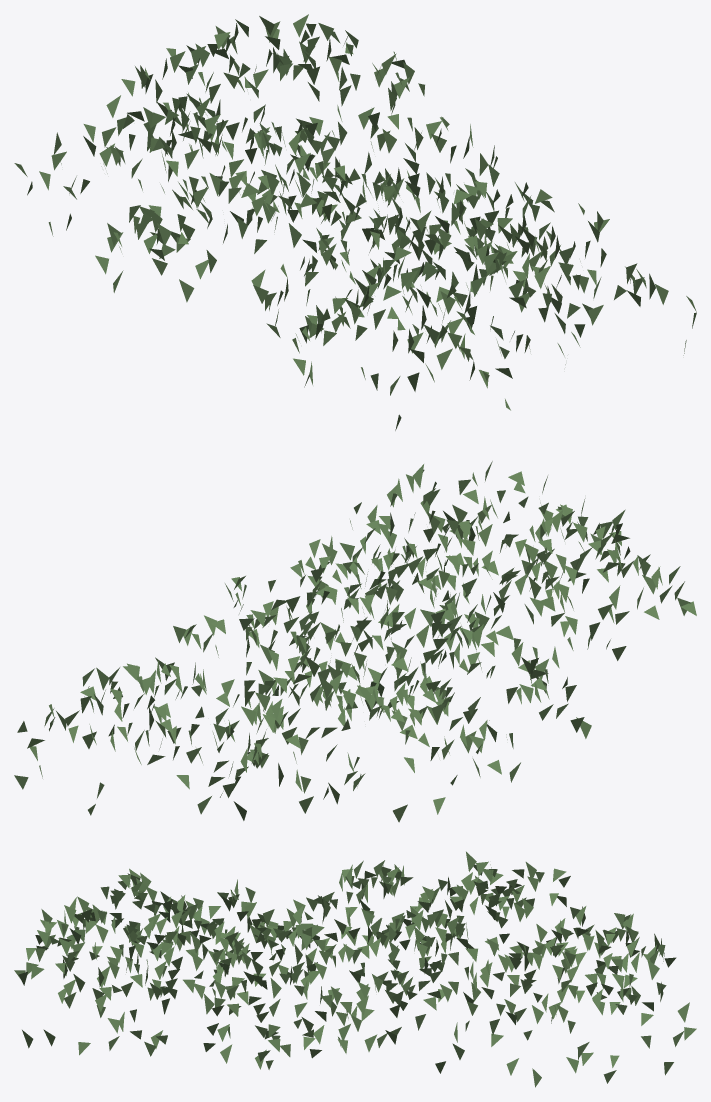
Rendered from xiyuan-vegetation-30-medium.glb.
3 views of the same model, one above another, from view 1: azimuth 30°, elevation 25°; view 2: azimuth 150°, elevation 25°; view 3: azimuth 270°, elevation 25° (orthographic). The views are drawn at different scales.
Visible parts, largest first — view 1: shrubs; view 2: shrubs; view 3: shrubs.
Boxes of the visible parts, x1,y1,x2,y2 form: shrubs: [14, 14, 696, 430]; shrubs: [14, 461, 696, 822]; shrubs: [14, 851, 696, 1087].
Size of the model in its own units: 4.94 by 1.31 by 7.78.
